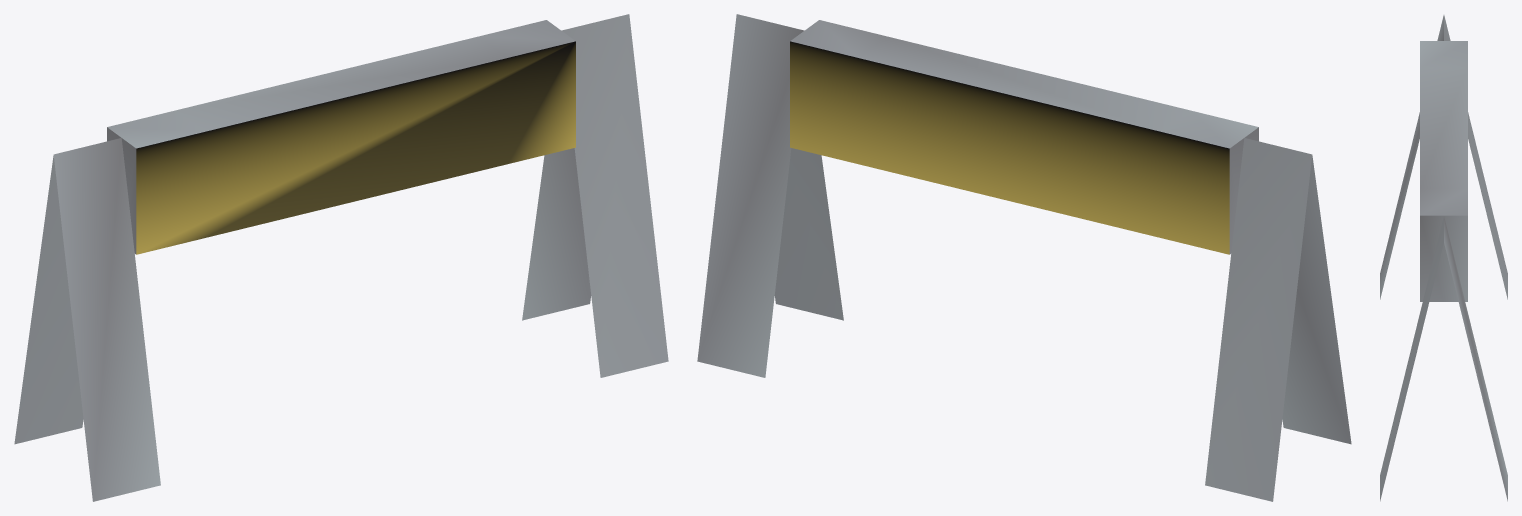
Rendered from detail-barrier-type-b.glb.
The picture shows the model from 3 angles, left to right: view 1: azimuth 30°, elevation 25°; view 2: azimuth 150°, elevation 25°; view 3: azimuth 270°, elevation 25°; orthographic projection. The views are drawn at different scales.
Visible parts, largest first — view 1: detail-barrier-type-b; view 2: detail-barrier-type-b; view 3: detail-barrier-type-b.
Boxes of the visible parts, <box> form: detail-barrier-type-b: <box>14,14,668,501</box>; detail-barrier-type-b: <box>697,14,1351,501</box>; detail-barrier-type-b: <box>1380,15,1507,501</box>.
Bounding box in the file's own units: 0.567 × 0.3 × 0.134.
